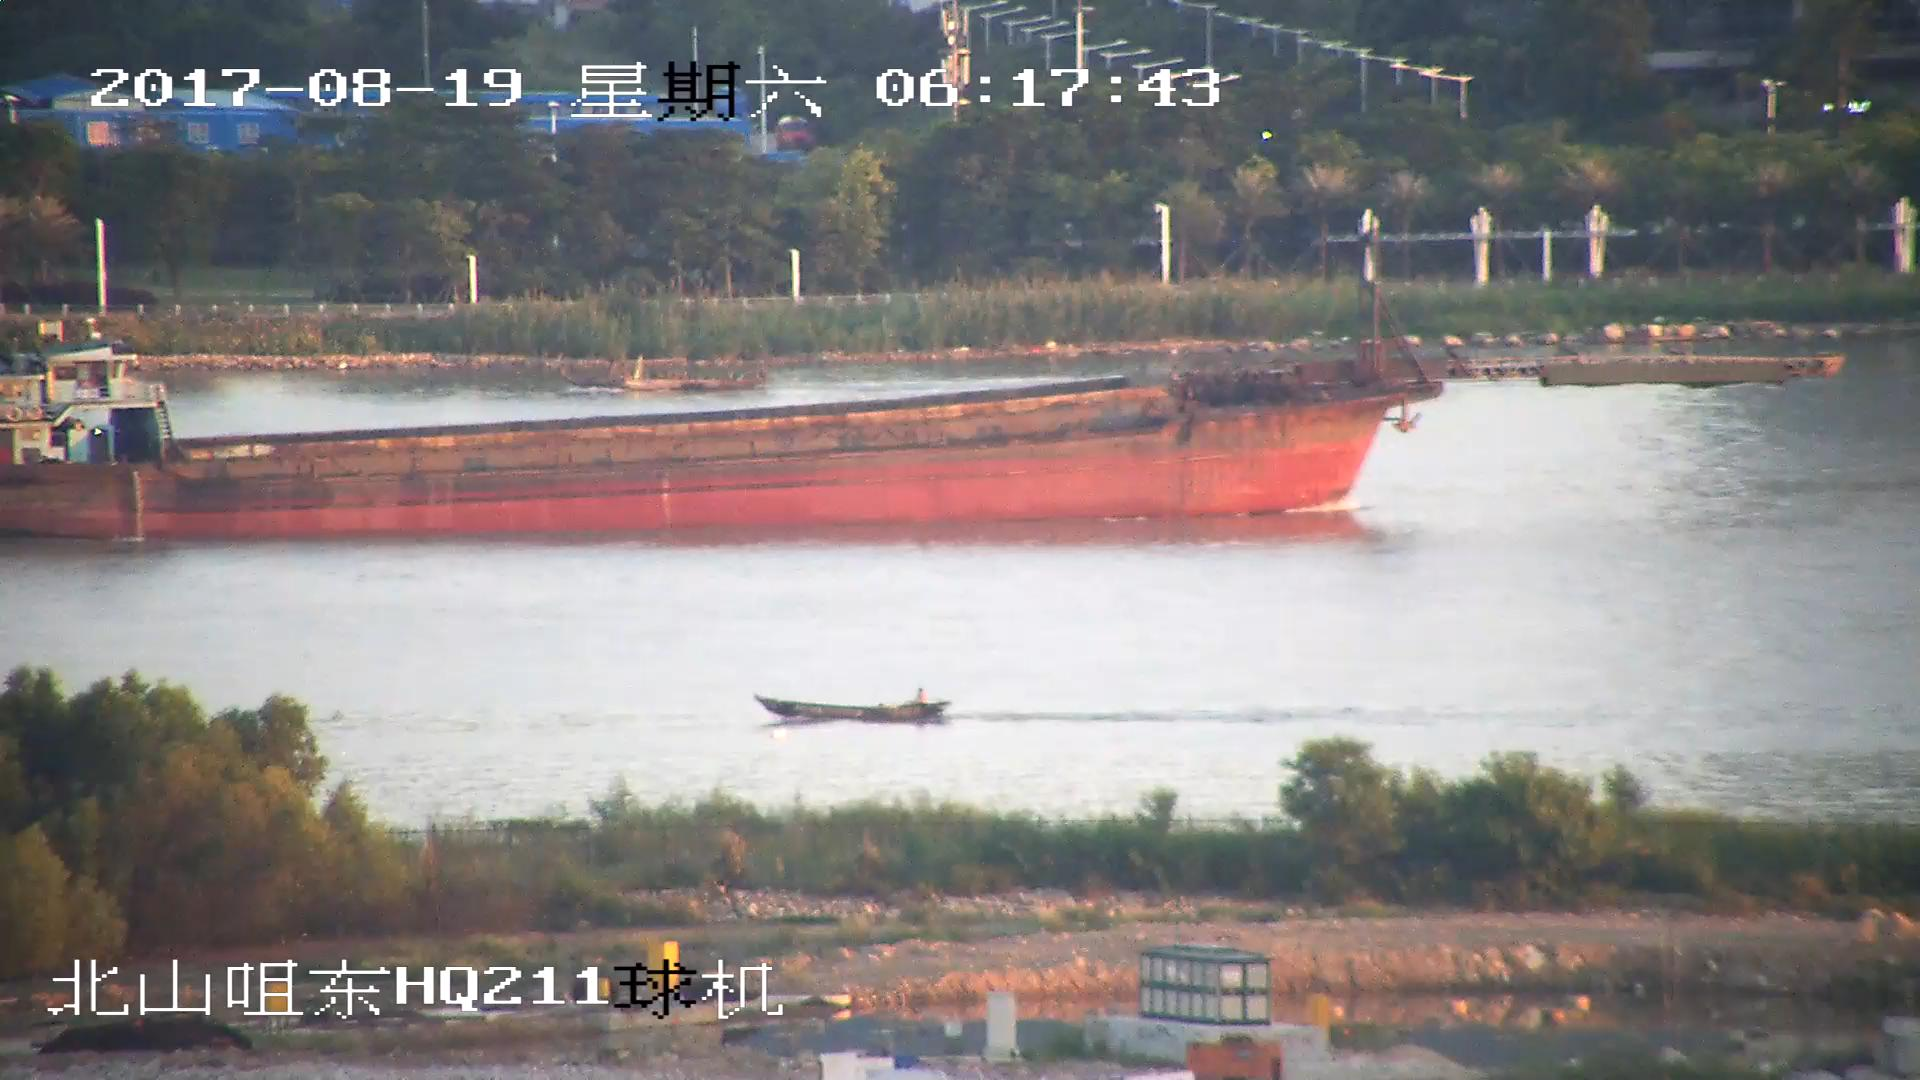bulk cargo carrier: (1, 224, 1839, 542)
fishing boat: (756, 685, 951, 726)
